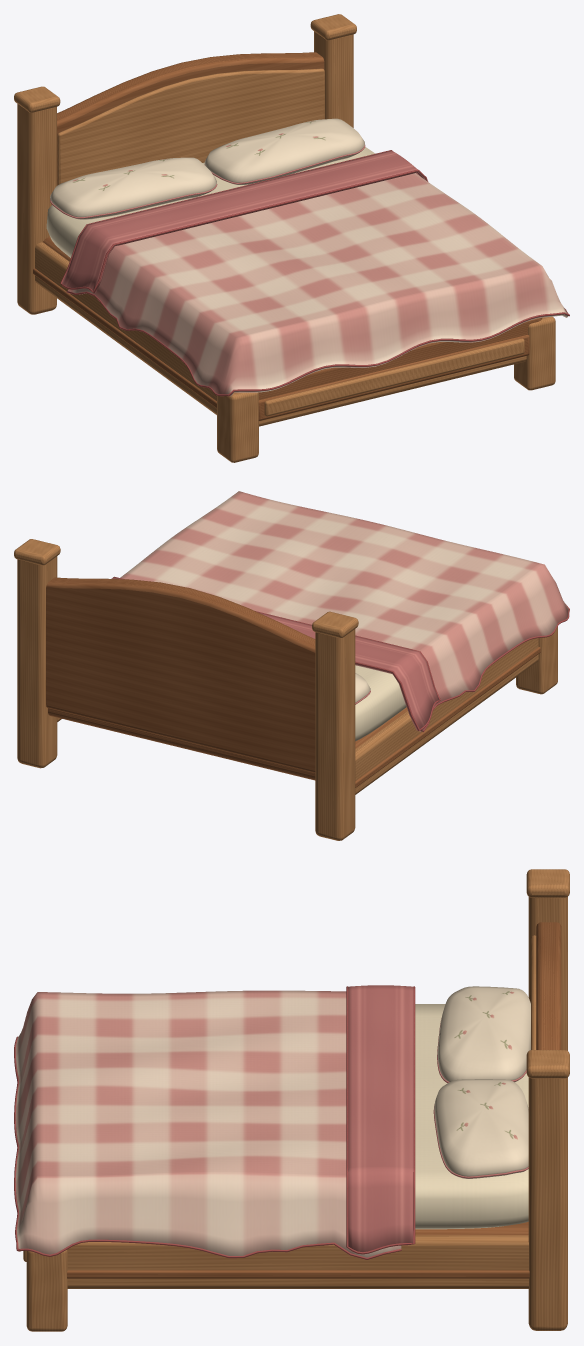
The model's file is SM_BunkerBed_sol62max.fbx.
The picture shows the model from 3 angles, top to bottom: view 1: azimuth 30°, elevation 25°; view 2: azimuth 150°, elevation 25°; view 3: azimuth 270°, elevation 25°; orthographic projection. The views are drawn at different scales.
Parts seen in each view (by area): view 1: SM_BunkerBed_sol62max; view 2: SM_BunkerBed_sol62max; view 3: SM_BunkerBed_sol62max.
Part boxes in pixels (bbox=[...]): SM_BunkerBed_sol62max: bbox=[14, 14, 569, 462]; SM_BunkerBed_sol62max: bbox=[14, 491, 569, 840]; SM_BunkerBed_sol62max: bbox=[14, 869, 569, 1331].
Size of the model in its own units: 189 by 204 by 108.
Materials: 1 (1 with a texture image).
